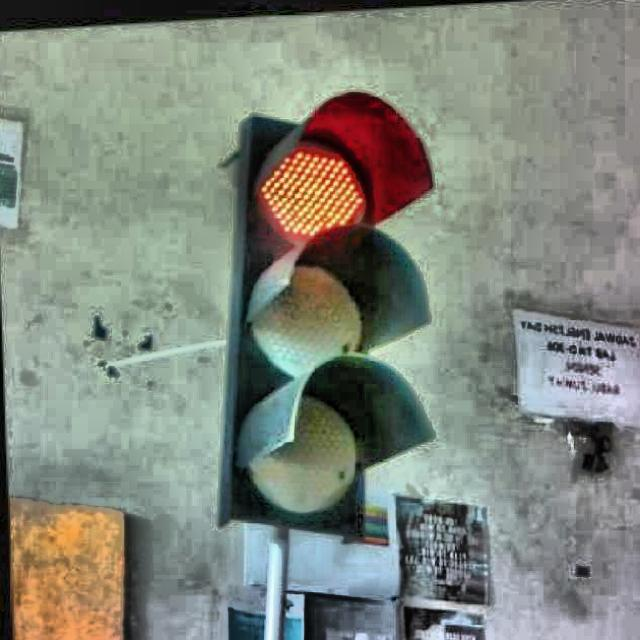red: (212, 110, 424, 524)
